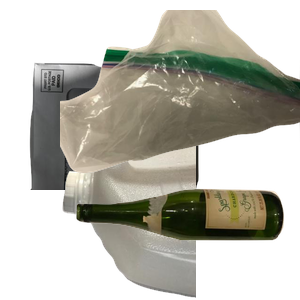glass: (74, 186, 300, 300)
paper: (27, 60, 223, 240)
plastic: (60, 120, 300, 300)
trash: (60, 10, 300, 176)
